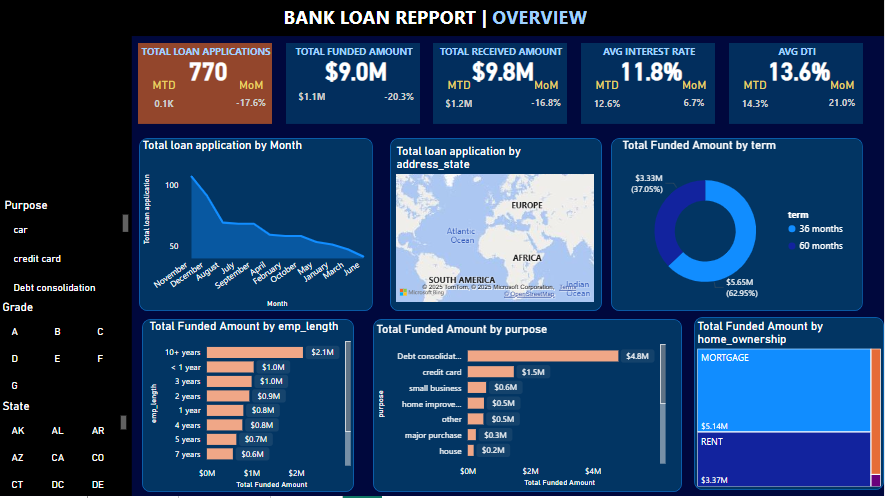

Layout of this report page (visuals, bound fields, positions):
{"tool":"powerbi","page":{"name":"Overview","canvas":[1280,720],"ordinal":1},"visuals":[{"type":"shape","box":[1004.8,461.2,274.7,250.1],"z":0},{"type":"shape","box":[540.7,464.1,446.7,250.1],"z":1000},{"type":"shape","box":[206.7,464.1,306.5,250.1],"z":2000},{"type":"shape","box":[201.1,64.5,193.7,117.1],"z":3000,"group":"g1"},{"type":"shape","box":[414.7,64.5,193.7,117.1],"z":3000,"group":"g2"},{"type":"shape","box":[628.3,64.5,193.7,117.1],"z":3000,"group":"g3"},{"type":"shape","box":[841.9,64.5,193.7,117.1],"z":3000,"group":"g4"},{"type":"shape","box":[1055.6,64.5,193.7,117.1],"z":3000,"group":"g5"},{"type":"shape","box":[884.8,202.4,364.3,250.1],"z":3000},{"type":"textbox","box":[189.4,62.2,219.8,34.7],"z":4000,"group":"g1"},{"type":"textbox","box":[403,62.2,219.8,34.7],"z":4000,"group":"g2"},{"type":"textbox","box":[616.6,62.2,219.8,34.7],"z":4000,"group":"g3"},{"type":"textbox","box":[830.2,62.2,219.8,34.7],"z":4000,"group":"g4"},{"type":"textbox","box":[1043.9,62.2,219.8,34.7],"z":4000,"group":"g5"},{"type":"shape","box":[565.3,202.4,306.5,250.1],"z":4000},{"type":"shape","box":[0,0,1280,55],"z":5000},{"type":"card","fields":{"Values":["financial_loan.Total loan application"]},"box":[223.8,70.5,156.1,65.1],"z":5000,"group":"g1"},{"type":"card","fields":{"Values":["financial_loan.Total Funded Amount"]},"box":[437.4,70.5,156.1,65.1],"z":5000,"group":"g2"},{"type":"card","fields":{"Values":["financial_loan.Total Received Amount"]},"box":[651,70.5,156.1,65.1],"z":5000,"group":"g3"},{"type":"card","fields":{"Values":["financial_loan.AVG Interest Rate"]},"box":[864.6,70.5,156.1,65.1],"z":5000,"group":"g4"},{"type":"card","fields":{"Values":["financial_loan.AVG dette to income"]},"box":[1078.3,70.5,156.1,65.1],"z":5000,"group":"g5"},{"type":"shape","box":[0,55.4,192,665.2],"z":6000},{"type":"card","title":"MTD ","fields":{"Values":["financial_loan.MTD Loan Application"]},"box":[202.7,115.9,72.2,58.8],"z":6000,"group":"g1"},{"type":"card","fields":{"Values":["financial_loan.MTD Funded Amount"]},"box":[416.3,115.9,72.2,58.8],"z":6000,"group":"g2"},{"type":"card","title":"MTD ","fields":{"Values":["financial_loan.MTD received amount"]},"box":[629.9,115.9,72.2,58.8],"z":6000,"group":"g3"},{"type":"card","title":"MTD ","fields":{"Values":["financial_loan.MTD avg interest rate"]},"box":[843.5,115.9,72.2,58.8],"z":6000,"group":"g4"},{"type":"card","title":"MTD ","fields":{"Values":["financial_loan.MTD avg dette to income"]},"box":[1057.2,115.9,72.2,58.8],"z":6000,"group":"g5"},{"type":"textbox","box":[406.5,3.4,465.3,52.1],"z":7000},{"type":"card","title":"MoM ","fields":{"Values":["financial_loan.MoM Loan Application"]},"box":[327.8,116.1,72.3,57.8],"z":7000,"group":"g1"},{"type":"card","title":"MoM ","fields":{"Values":["financial_loan.MoM total funded application"]},"box":[541.4,116.1,72.3,57.8],"z":7000,"group":"g2"},{"type":"card","title":"MoM ","fields":{"Values":["financial_loan.MoM received amount"]},"box":[755,116.1,72.3,57.8],"z":7000,"group":"g3"},{"type":"card","title":"MoM ","fields":{"Values":["financial_loan.MoM avg interest amount"]},"box":[968.6,116.1,72.3,57.8],"z":7000,"group":"g4"},{"type":"card","title":"MoM ","fields":{"Values":["financial_loan.MoM avg dette to income"]},"box":[1182.3,116.1,72.3,57.8],"z":7000,"group":"g5"},{"type":"group","id":"g1","title":"Group 1","box":[189.4,62.2,219.8,120],"z":8000},{"type":"group","id":"g2","title":"Group 1","box":[403,62.2,219.8,120],"z":9000},{"type":"group","id":"g3","title":"Group 1","box":[616.6,62.2,219.8,120],"z":10000},{"type":"group","id":"g4","title":"Group 1","box":[830.2,62.2,219.8,120],"z":11000},{"type":"group","id":"g5","title":"Group 1","box":[1043.9,62.2,219.8,120],"z":12000},{"type":"shape","box":[202.4,202.4,338.3,250.1],"z":13000},{"type":"advancedSlicerVisual","title":"Purpose","fields":{"Values":["financial_loan.purpose"]},"box":[2.9,289.2,189.4,147.5],"z":14000},{"type":"advancedSlicerVisual","title":"State","fields":{"Values":["financial_loan.address_state"]},"box":[0,579.8,189.4,140.2],"z":15000},{"type":"advancedSlicerVisual","title":"Grade","fields":{"Values":["financial_loan.grade"]},"box":[0,436.6,189.4,140.2],"z":16000},{"type":"areaChart","fields":{"Category":["Date Table.Month"],"Y":["financial_loan.Total loan application"]},"box":[202.4,202.4,338.3,250.1],"z":17000},{"type":"filledMap","fields":{"Category":["financial_loan.address_state"]},"box":[569.6,211.1,294.9,234.2],"z":18000},{"type":"clusteredBarChart","fields":{"Category":["financial_loan.emp_length"],"Y":["financial_loan.Total Funded Amount"]},"box":[212.5,464.1,300.7,250.1],"z":19000},{"type":"donutChart","fields":{"Y":["financial_loan.Total Funded Amount"],"Series":["financial_loan.term"]},"box":[896.4,202.4,338.3,250.1],"z":20000},{"type":"clusteredBarChart","fields":{"Category":["financial_loan.purpose"],"Y":["financial_loan.Total Funded Amount"]},"box":[540.7,468.4,428,242.9],"z":21000},{"type":"treemap","fields":{"Values":["financial_loan.Total Funded Amount"],"Group":["financial_loan.home_ownership"]},"box":[1004.8,464.1,274.7,247.2],"z":22000}]}

Visuals, with their boxes in screenshot pixels (x1, y1, x2, y2), scaled from the page's 1280x720 canvas onto the 885x498 screenshot:
shape: bbox=[695, 319, 884, 492]
shape: bbox=[374, 321, 683, 494]
shape: bbox=[143, 321, 355, 494]
shape: bbox=[139, 45, 273, 126]
shape: bbox=[287, 45, 421, 126]
shape: bbox=[434, 45, 568, 126]
shape: bbox=[582, 45, 716, 126]
shape: bbox=[730, 45, 864, 126]
shape: bbox=[612, 140, 864, 313]
textbox: bbox=[131, 43, 283, 67]
textbox: bbox=[279, 43, 431, 67]
textbox: bbox=[426, 43, 578, 67]
textbox: bbox=[574, 43, 726, 67]
textbox: bbox=[722, 43, 874, 67]
shape: bbox=[391, 140, 603, 313]
shape: bbox=[0, 0, 884, 38]
card - financial_loan.Total loan application: bbox=[155, 49, 263, 94]
card - financial_loan.Total Funded Amount: bbox=[302, 49, 410, 94]
card - financial_loan.Total Received Amount: bbox=[450, 49, 558, 94]
card - financial_loan.AVG Interest Rate: bbox=[598, 49, 706, 94]
card - financial_loan.AVG dette to income: bbox=[746, 49, 853, 94]
shape: bbox=[0, 38, 133, 497]
"MTD " card: bbox=[140, 80, 190, 121]
card - financial_loan.MTD Funded Amount: bbox=[288, 80, 338, 121]
"MTD " card: bbox=[436, 80, 485, 121]
"MTD " card: bbox=[583, 80, 633, 121]
"MTD " card: bbox=[731, 80, 781, 121]
textbox: bbox=[281, 2, 603, 38]
"MoM " card: bbox=[227, 80, 277, 120]
"MoM " card: bbox=[374, 80, 424, 120]
"MoM " card: bbox=[522, 80, 572, 120]
"MoM " card: bbox=[670, 80, 720, 120]
"MoM " card: bbox=[817, 80, 867, 120]
"Group 1" group: bbox=[131, 43, 283, 126]
"Group 1" group: bbox=[279, 43, 431, 126]
"Group 1" group: bbox=[426, 43, 578, 126]
"Group 1" group: bbox=[574, 43, 726, 126]
"Group 1" group: bbox=[722, 43, 874, 126]
shape: bbox=[140, 140, 374, 313]
"Purpose" advancedSlicerVisual: bbox=[2, 200, 133, 302]
"State" advancedSlicerVisual: bbox=[0, 401, 131, 497]
"Grade" advancedSlicerVisual: bbox=[0, 302, 131, 399]
areaChart - Date Table.Month x financial_loan.Total loan application: bbox=[140, 140, 374, 313]
filledMap - financial_loan.address_state: bbox=[394, 146, 598, 308]
clusteredBarChart - financial_loan.emp_length x financial_loan.Total Funded Amount: bbox=[147, 321, 355, 494]
donutChart - financial_loan.Total Funded Amount x financial_loan.term: bbox=[620, 140, 854, 313]
clusteredBarChart - financial_loan.purpose x financial_loan.Total Funded Amount: bbox=[374, 324, 670, 492]
treemap - financial_loan.Total Funded Amount x financial_loan.home_ownership: bbox=[695, 321, 884, 492]
